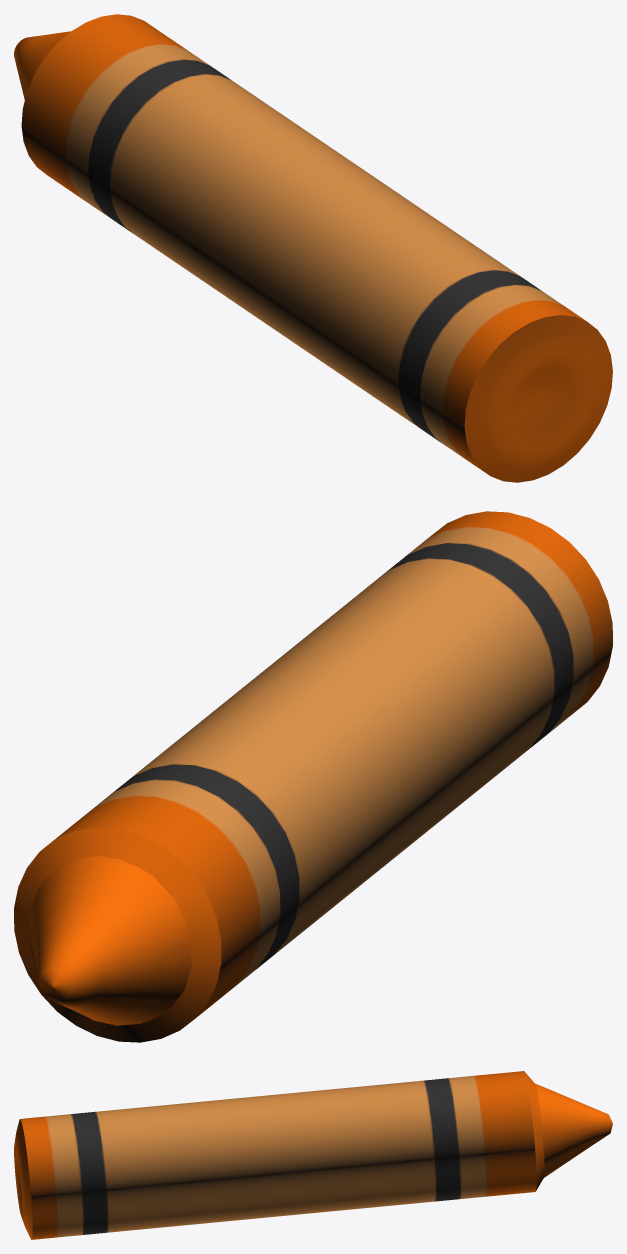
File: orange.obj
The picture shows the model from 3 angles, top to bottom: view 1: azimuth 30°, elevation 25°; view 2: azimuth 150°, elevation 25°; view 3: azimuth 270°, elevation 25°; orthographic projection. The views are drawn at different scales.
Parts seen in each view (by area): view 1: Cylinder001; view 2: Cylinder001; view 3: Cylinder001.
Boxes of the visible parts, left/top/right/bottom form: Cylinder001: left=14, top=14, right=612, bottom=482; Cylinder001: left=14, top=511, right=612, bottom=1042; Cylinder001: left=14, top=1071, right=612, bottom=1239.
Size of the model in its own units: 17.87 by 15.77 by 62.58.
1 material, 1 textured.
